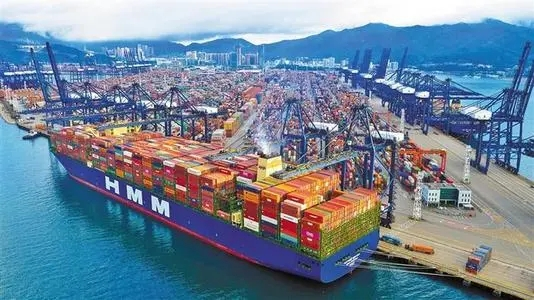Cargoship: (46, 114, 376, 280)
